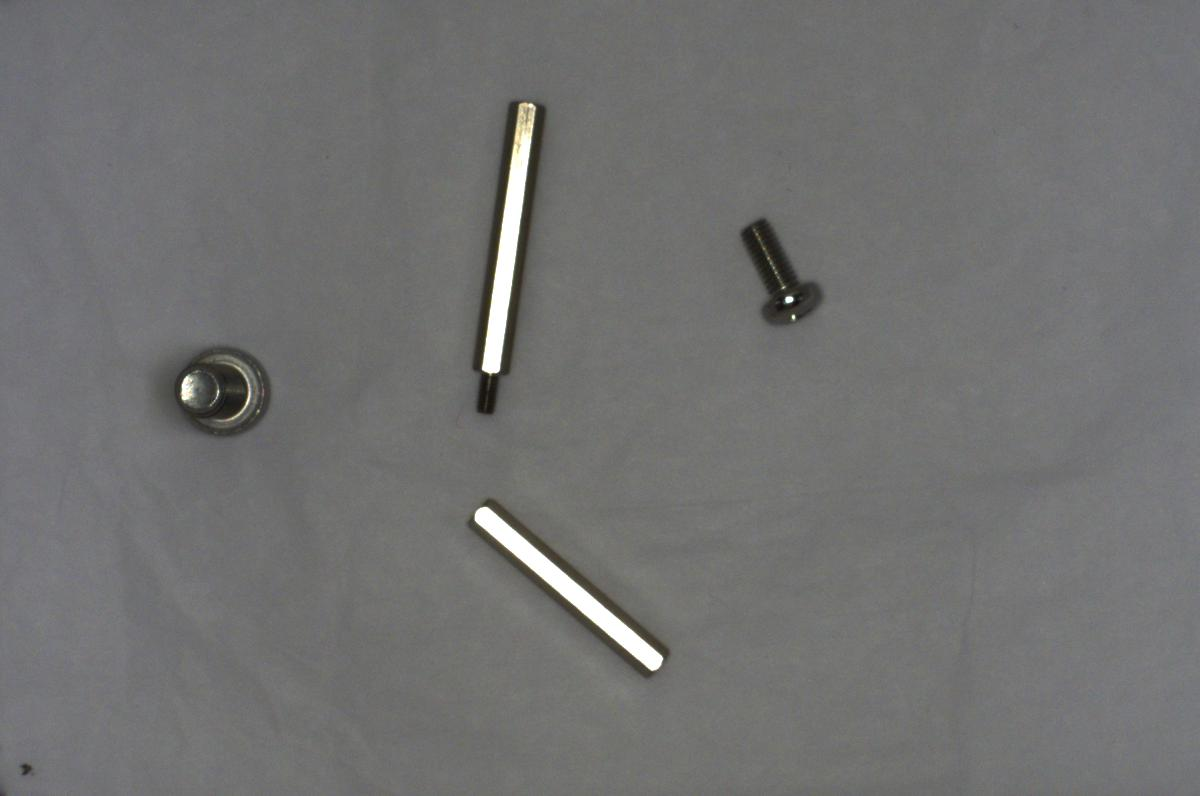Double hexagonal column: (465, 493, 675, 686)
Hexagon screw: (164, 345, 279, 442)
Hexagonal steel column: (465, 92, 540, 421)
Round head screw: (734, 212, 834, 333)
